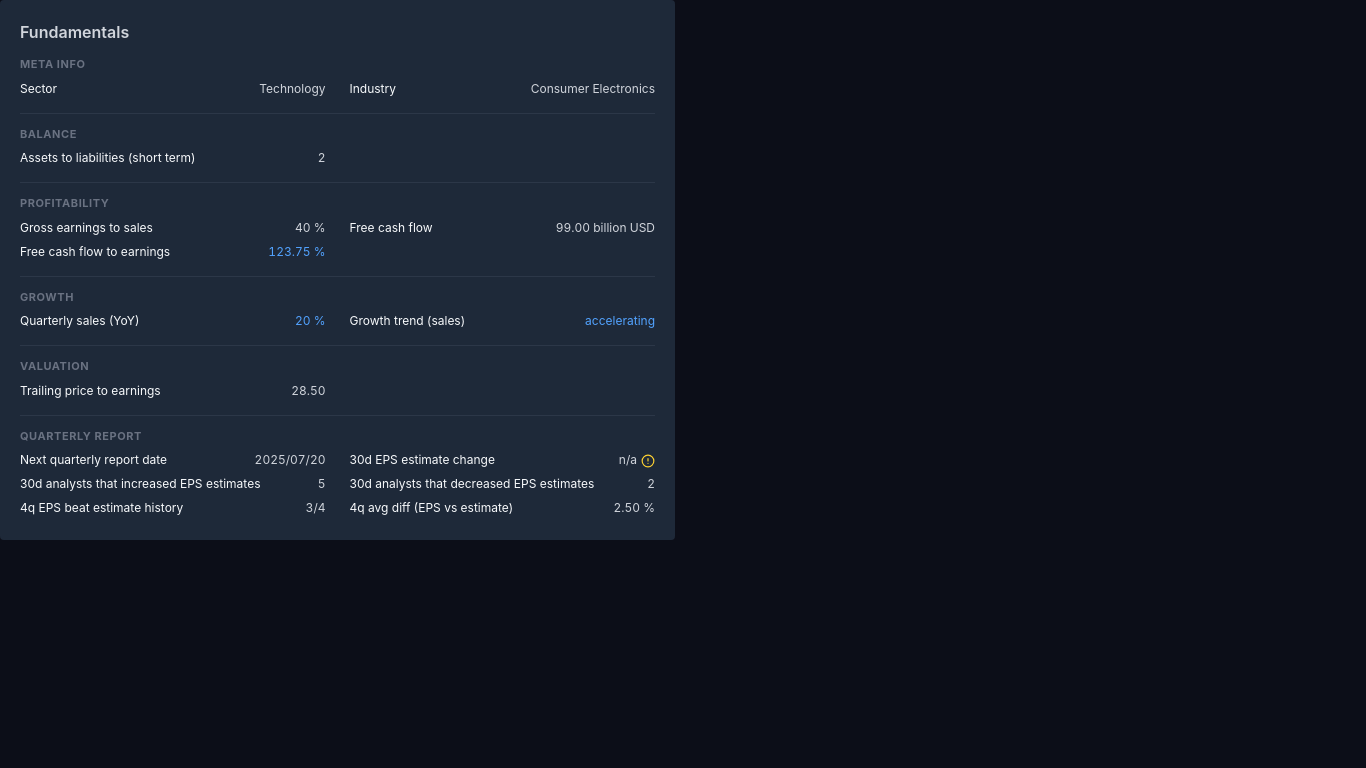
Scenario: AltDimensions — fundamentals v3 › renders a blank field as plain n/a with a why-blank field mark
expect the text with test id "alt-metric-blank-eps_rev_30d_pct" reads "n/a": met, box [619,452,637,467]
Click the button with test id "alt-field-notes-eps_rev_30d_pct".
click(648, 461)  # box [641,454,655,468]
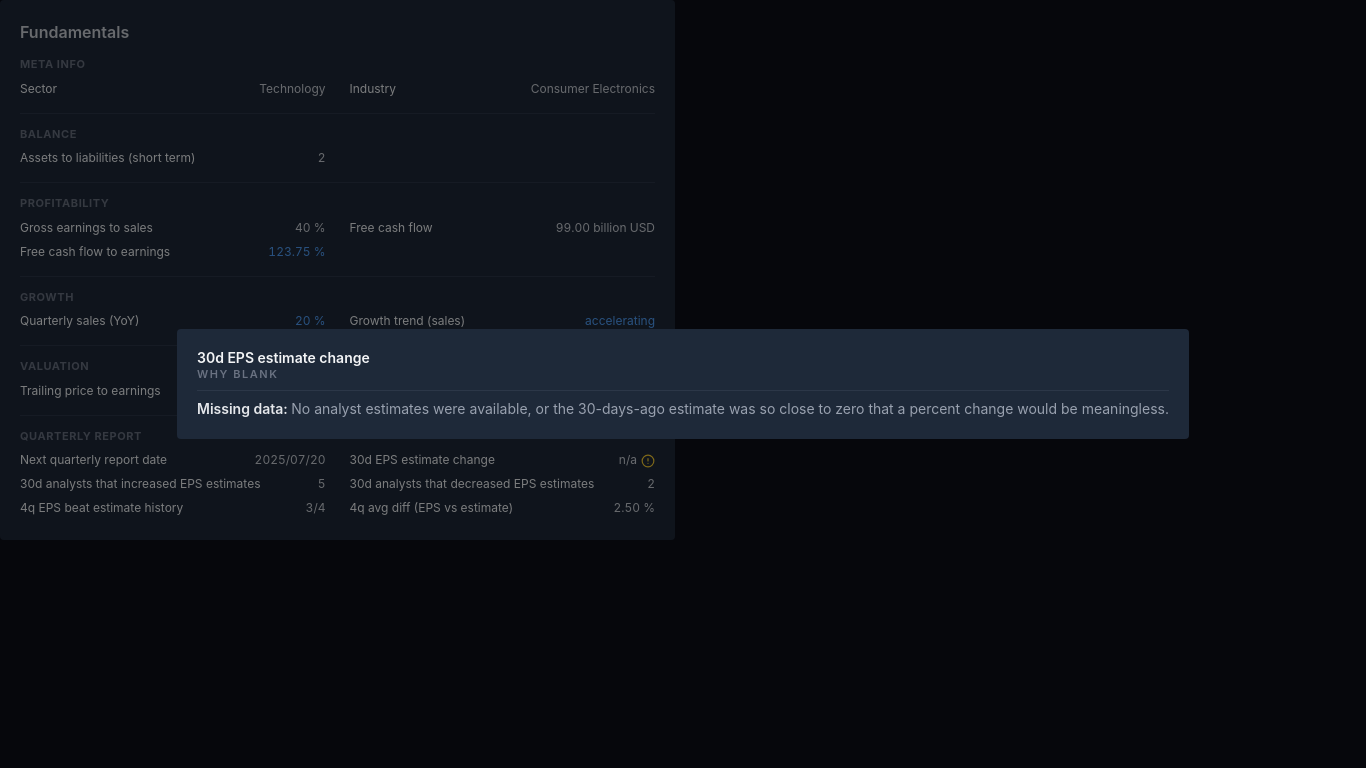
expect the element with test id "alt-metric-blank-modal" shows "No analyst estimates were available": met, box [291,400,1169,417]
expect the heading reads "30d EPS estimate change why blank": met, box [197,349,370,381]
